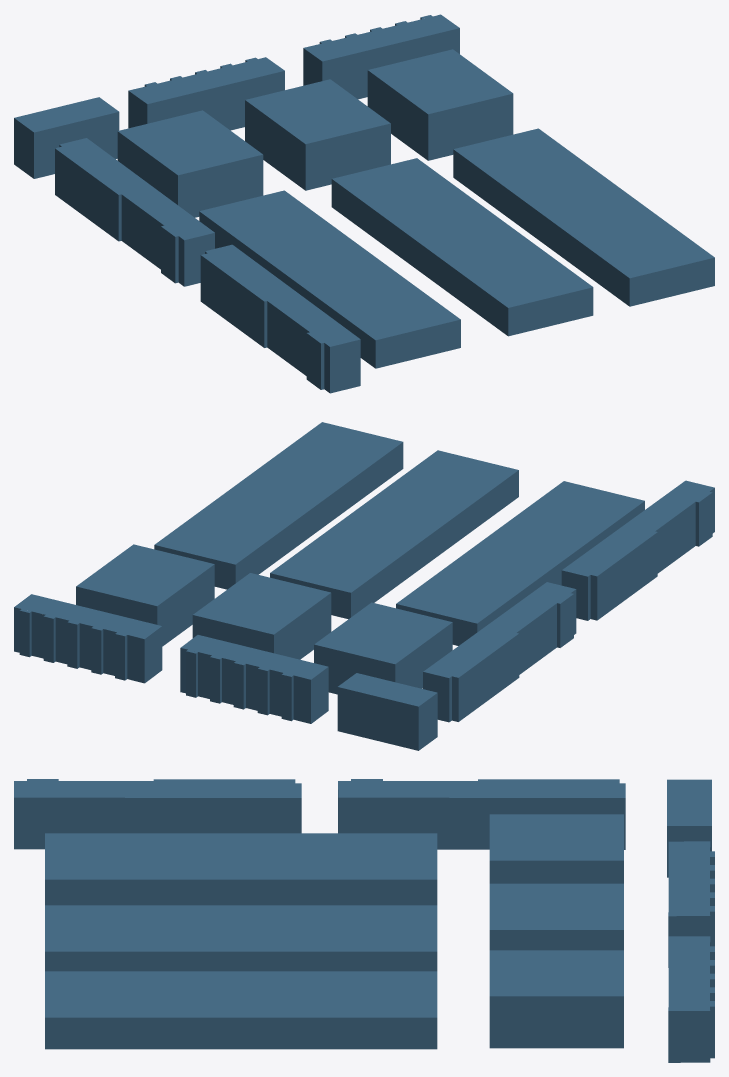
File: 科技氛围建筑_002.glb
3 views of the same model, one above another, from view 1: azimuth 30°, elevation 25°; view 2: azimuth 150°, elevation 25°; view 3: azimuth 270°, elevation 25° (orthographic). The views are drawn at different scales.
Visible parts, largest first — view 1: 科技氛围建筑_002; view 2: 科技氛围建筑_002; view 3: 科技氛围建筑_002.
Part boxes in pixels (x1,y1,x2,y2): 科技氛围建筑_002: [14, 14, 714, 393]; 科技氛围建筑_002: [14, 422, 714, 750]; 科技氛围建筑_002: [14, 779, 714, 1062].
Size of the model in its own units: 126 by 13.09 by 161.
